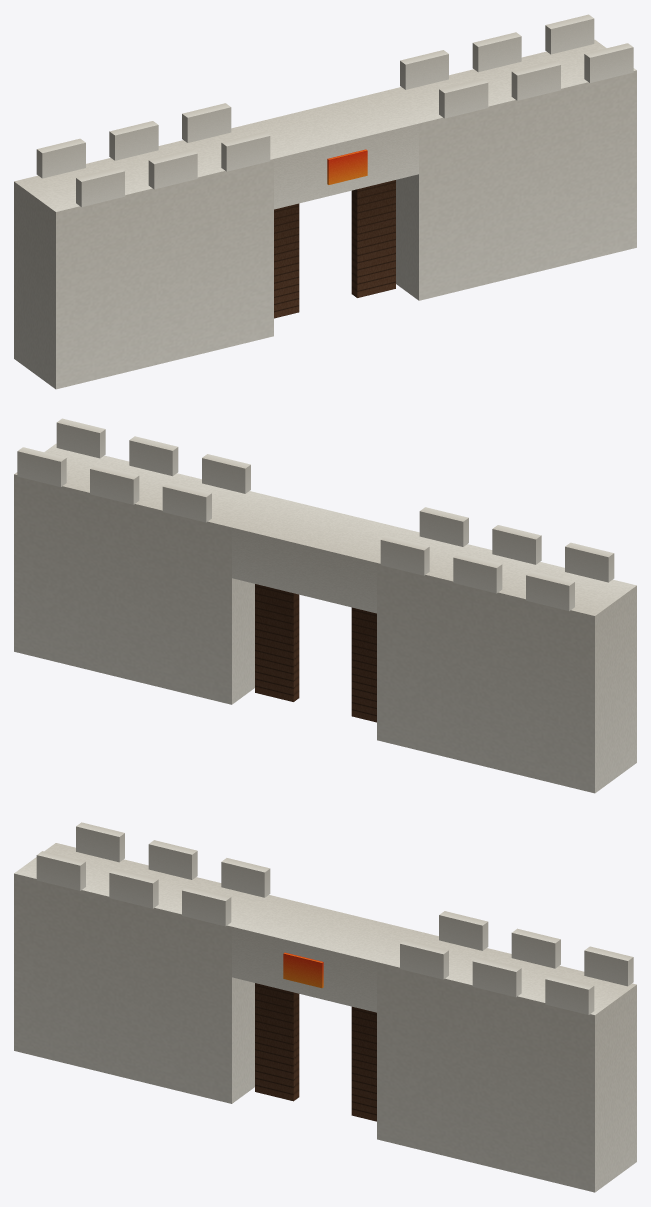
File: city_wall_gate.gltf
3 views of the same model, one above another, from view 1: azimuth 30°, elevation 25°; view 2: azimuth 150°, elevation 25°; view 3: azimuth 330°, elevation 25° (orthographic).
Visible parts, largest first — view 1: city_wall_gate; view 2: city_wall_gate; view 3: city_wall_gate.
Part boxes in pixels (box(x1,y1,x2,y2)): city_wall_gate: box(14, 14, 636, 389); city_wall_gate: box(14, 418, 636, 793); city_wall_gate: box(14, 822, 636, 1192).
Bounding box in the file's own units: 24 × 8 × 3.22.
1 material, 1 textured.
